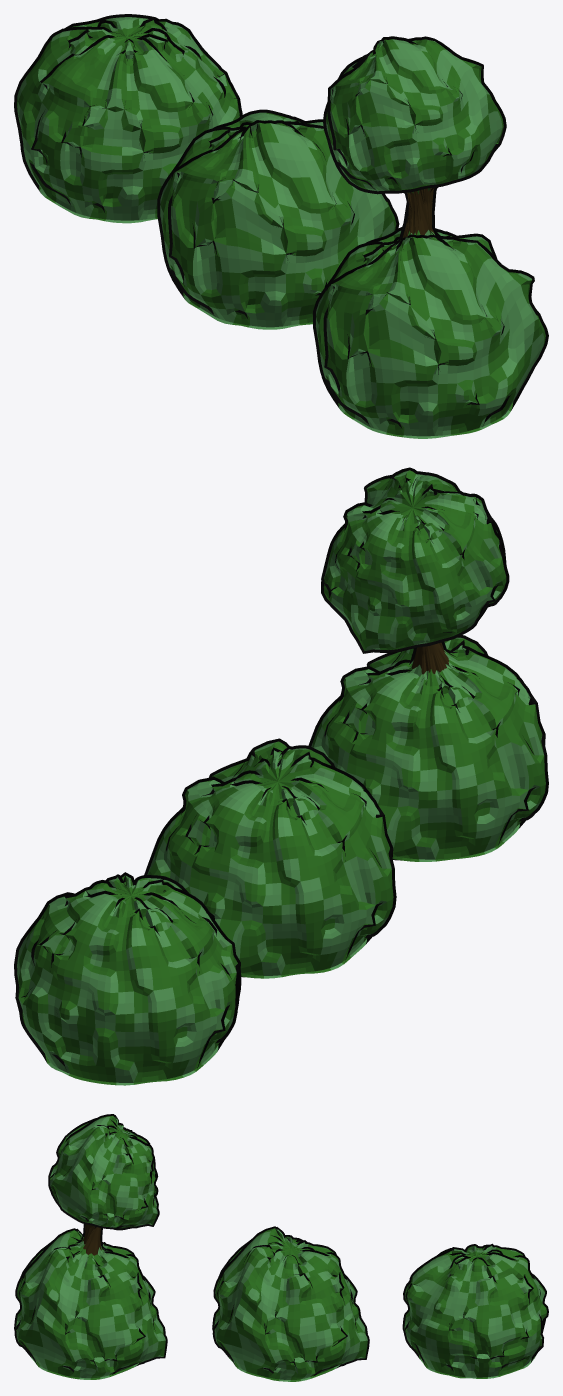
File: calı.fbx
3 renders of one model, top to bottom at view 1: azimuth 30°, elevation 25°; view 2: azimuth 150°, elevation 25°; view 3: azimuth 270°, elevation 25°, orthographic. The views are drawn at different scales.
Visible parts, largest first — view 1: calı3, calı2, calı1; view 2: calı3, calı2, calı1; view 3: calı3, calı2, calı1.
Part boxes in pixels (x1,y1,x2,y2): calı3: [313, 36, 548, 438]; calı2: [157, 109, 399, 329]; calı1: [14, 14, 242, 223]; calı3: [308, 467, 548, 861]; calı2: [144, 738, 396, 978]; calı1: [14, 872, 241, 1085]; calı3: [14, 1114, 167, 1379]; calı2: [212, 1226, 369, 1381]; calı1: [402, 1243, 548, 1378].
Bounding box in the file's own units: 250 × 396 × 816.
